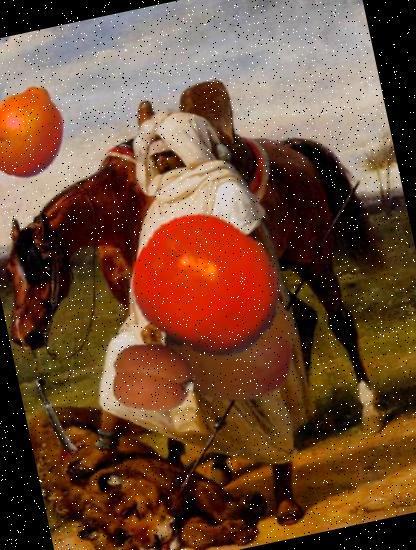Apricot: (149, 264, 309, 424), (105, 328, 202, 425)
Clementine: (119, 198, 296, 375)
Tangelo: (0, 76, 80, 186)
